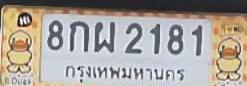1: (191, 24, 201, 55), (149, 23, 159, 53)
2: (124, 22, 141, 53)
8: (167, 23, 182, 54), (47, 19, 62, 49)
A01: (69, 20, 88, 51)
A28: (93, 21, 114, 51)
BKK: (64, 62, 187, 86)
